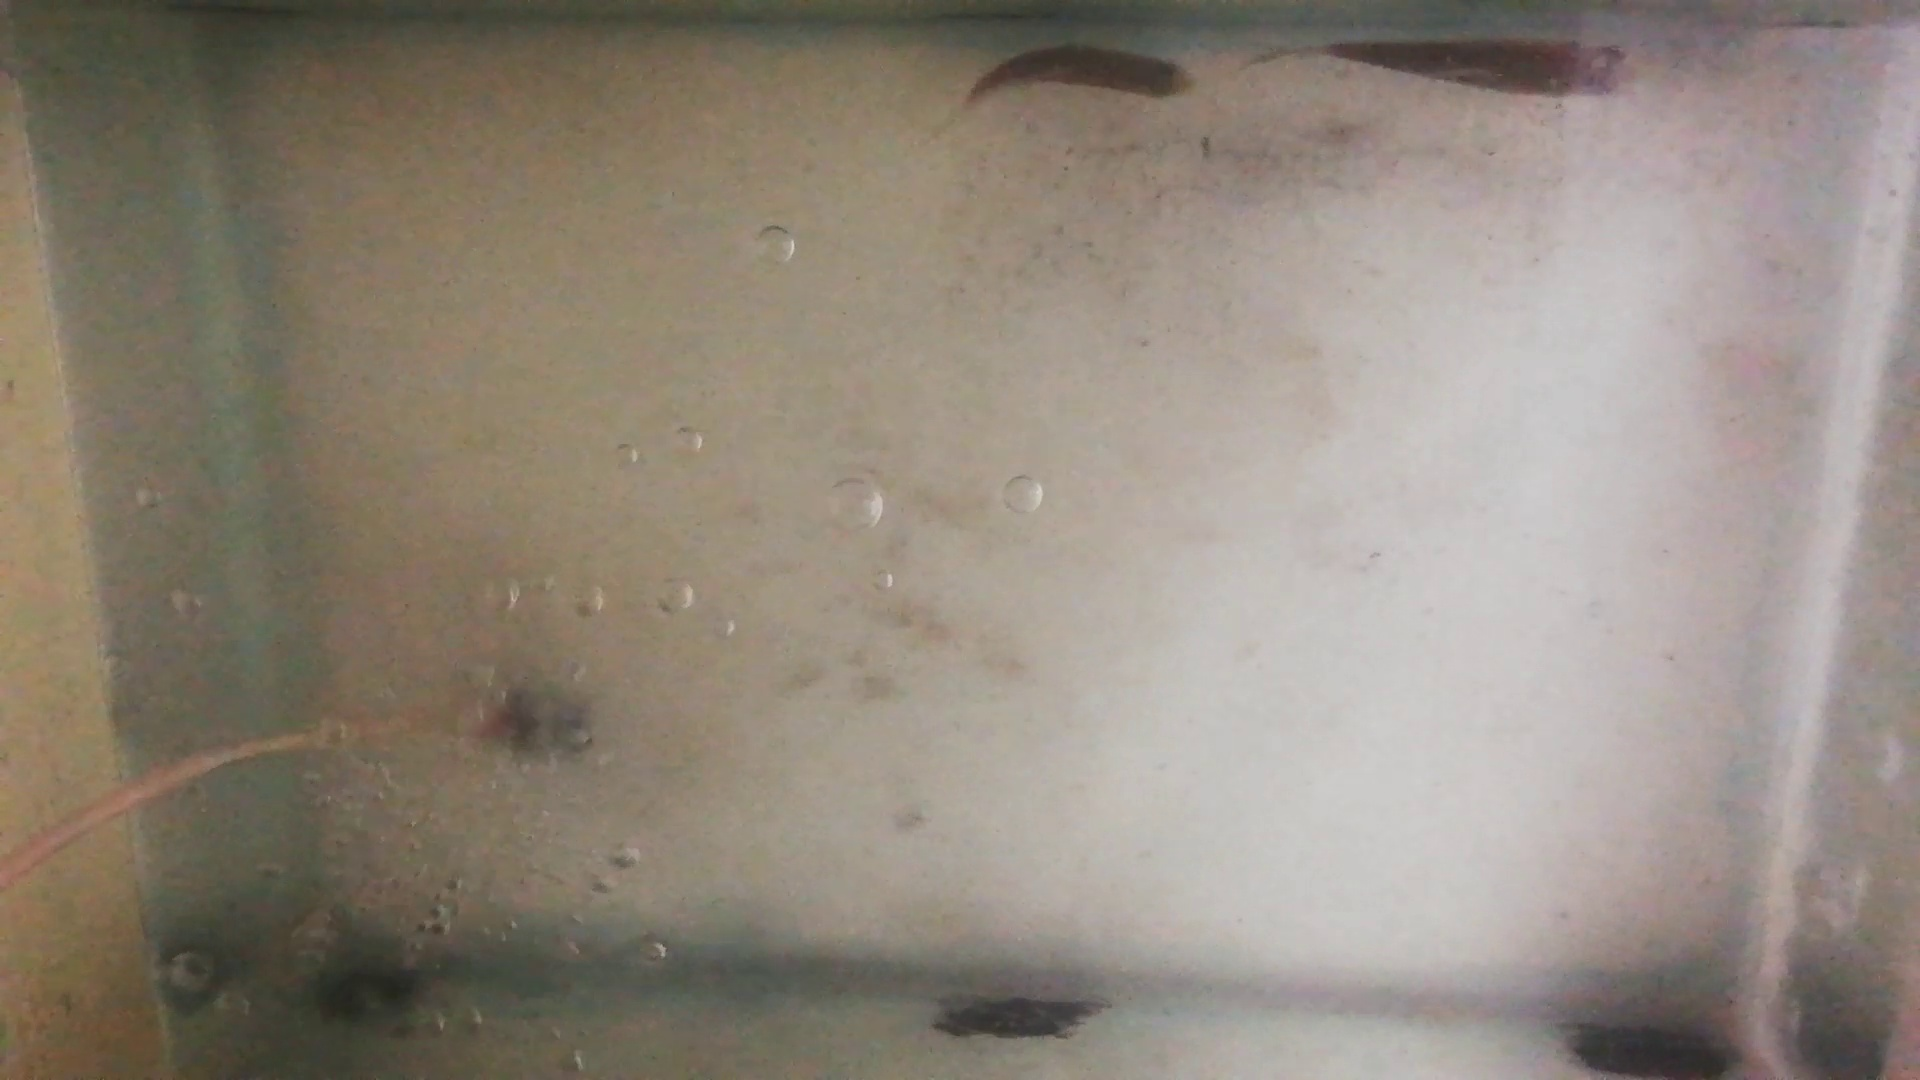fish: (1327, 36, 1639, 103), (967, 42, 1199, 104)
